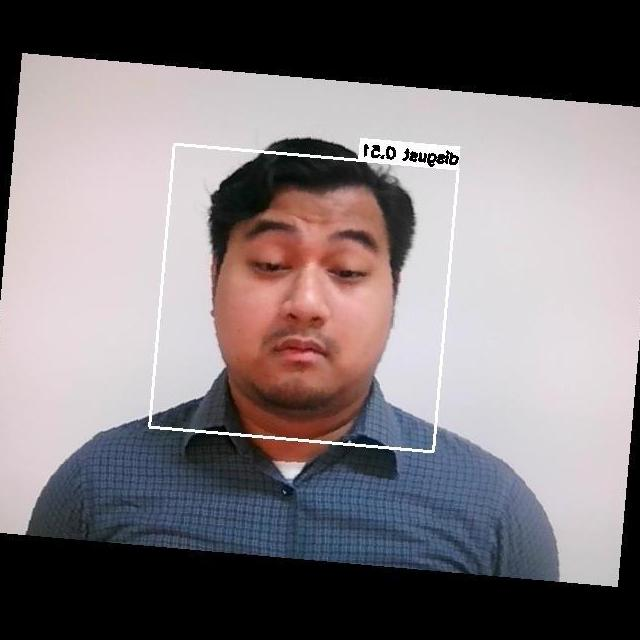Fear: (222, 211, 398, 396)
